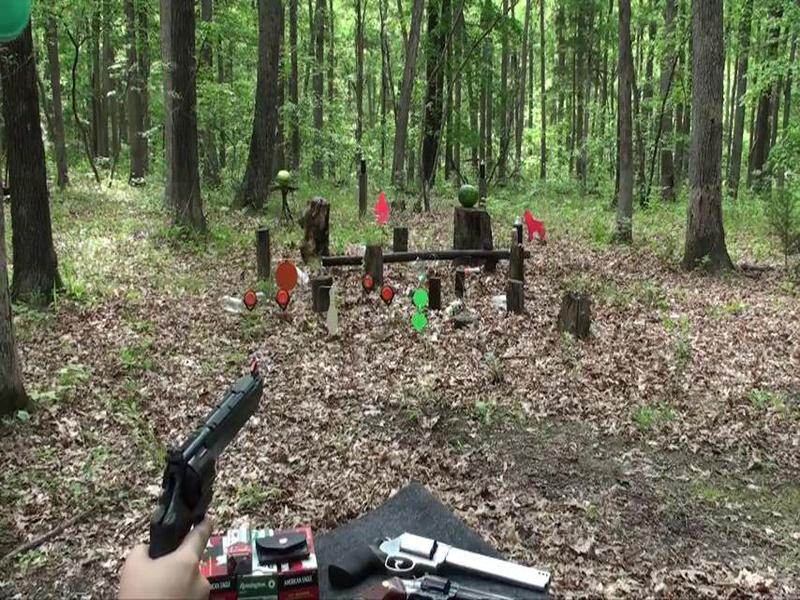Revolver: (138, 356, 283, 575)
